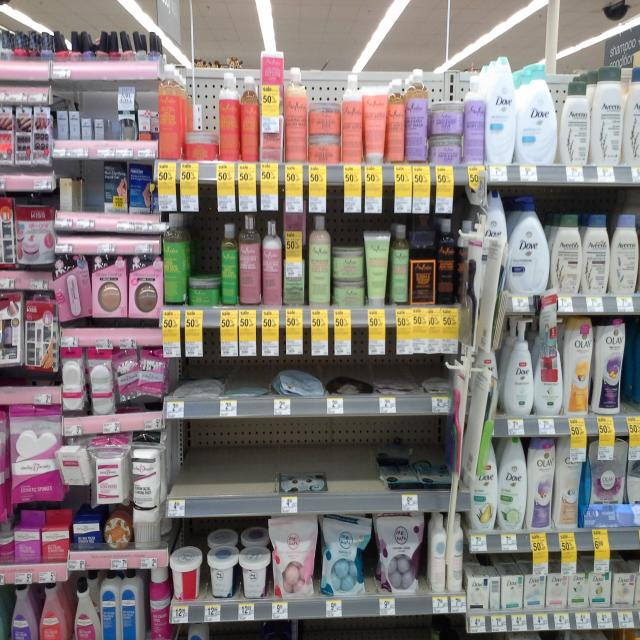void: (174, 424, 202, 516), (328, 418, 350, 511), (352, 416, 372, 516), (226, 424, 246, 518), (249, 429, 269, 513), (205, 426, 223, 518), (84, 161, 104, 231)
